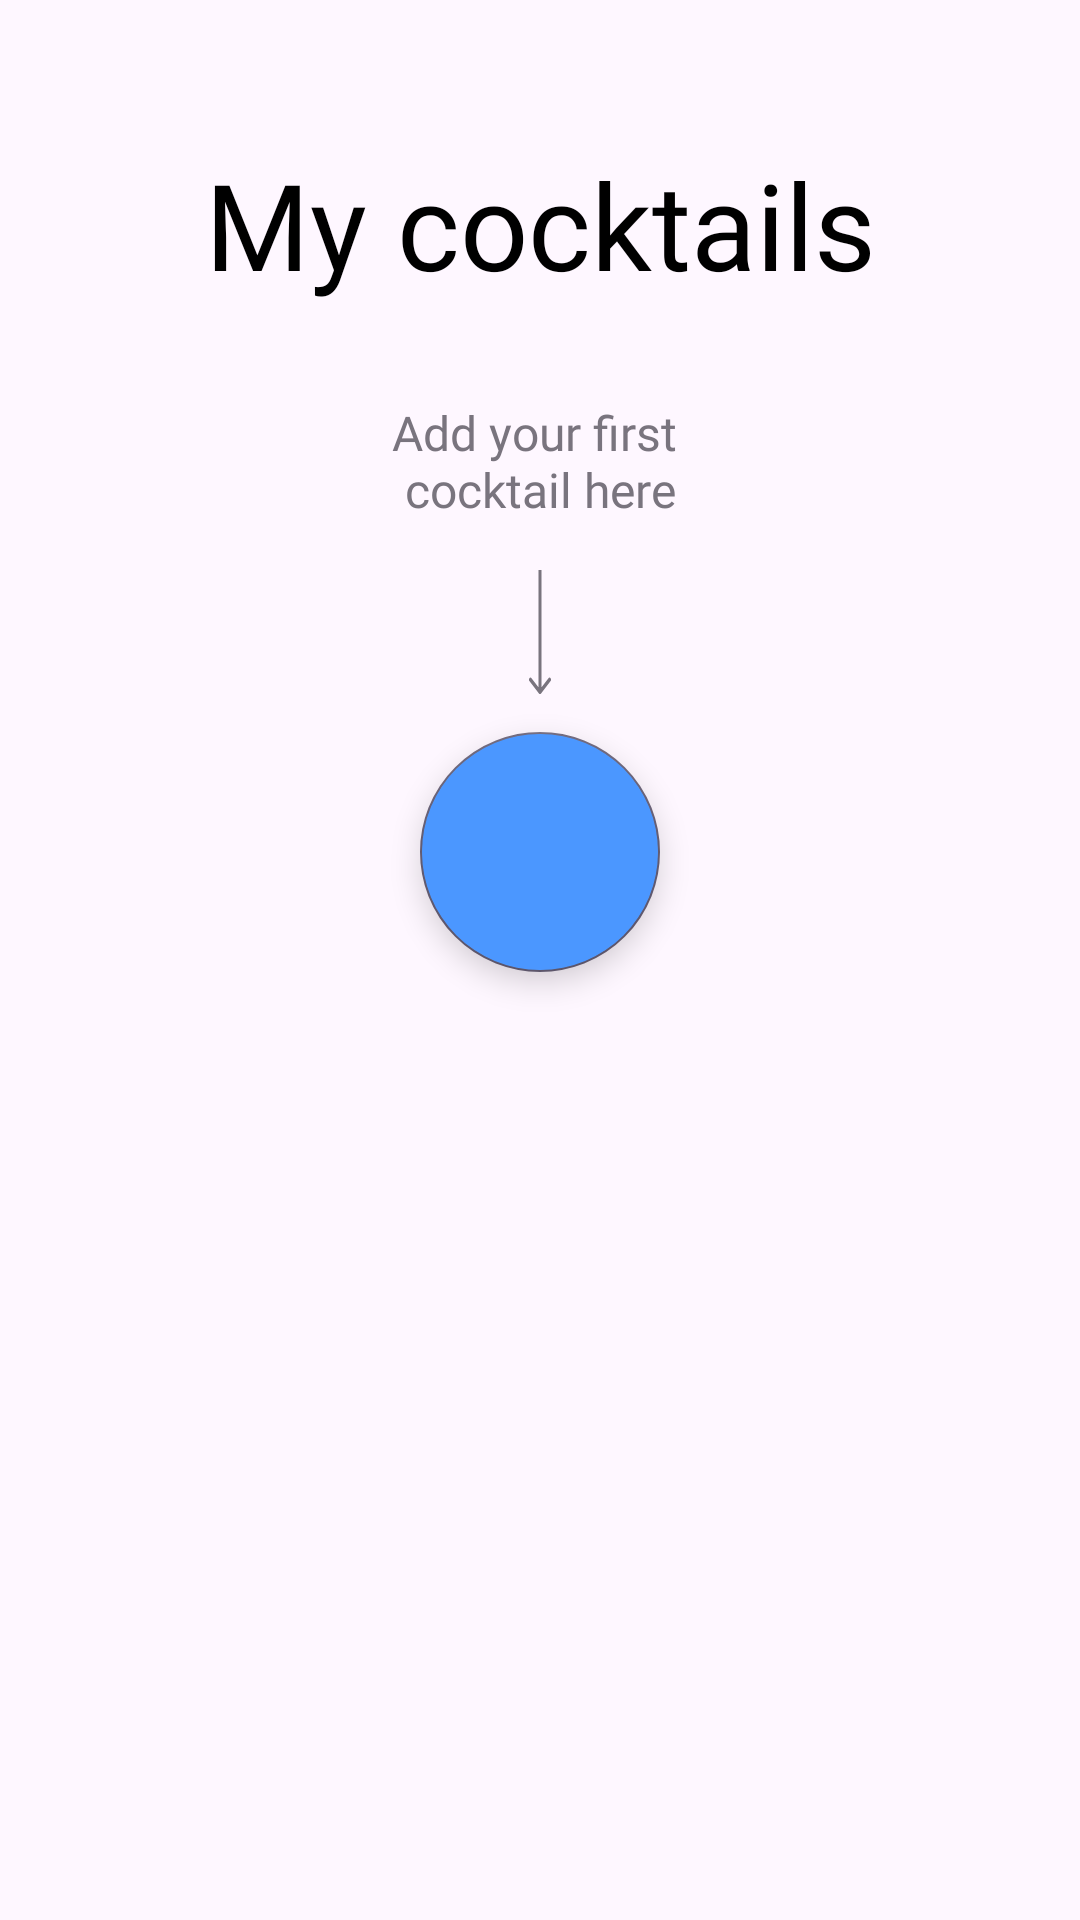

Locate icon controls on the screen. Image size 1080 x 1920, boxes as region(x1, y1, x2, y2).
arrow down: region(529, 570, 551, 694)
